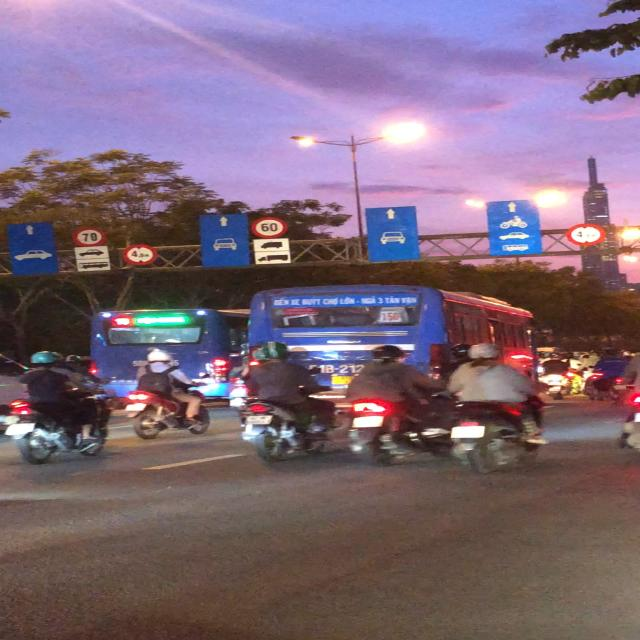Bien bao han che chieu cao: (563, 222, 606, 248), (121, 242, 161, 268)
Bien bao toc do toi da cho phep: (67, 224, 109, 247), (249, 215, 289, 239)
